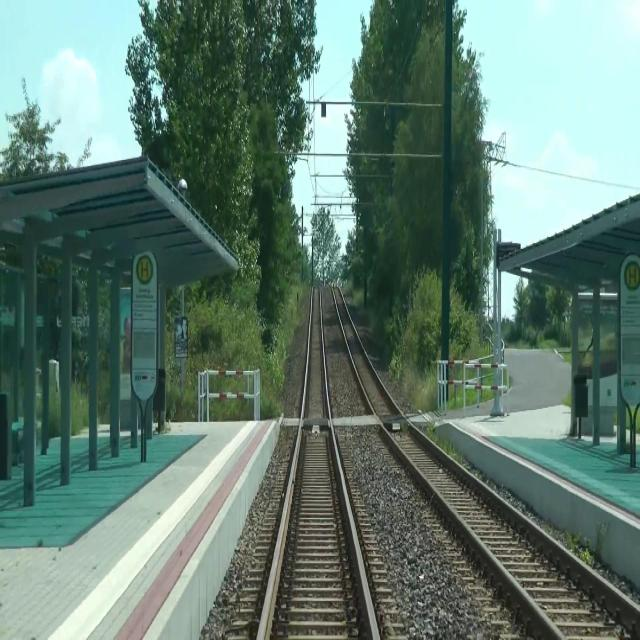rail-track: (332, 285, 640, 639), (263, 284, 374, 639)
